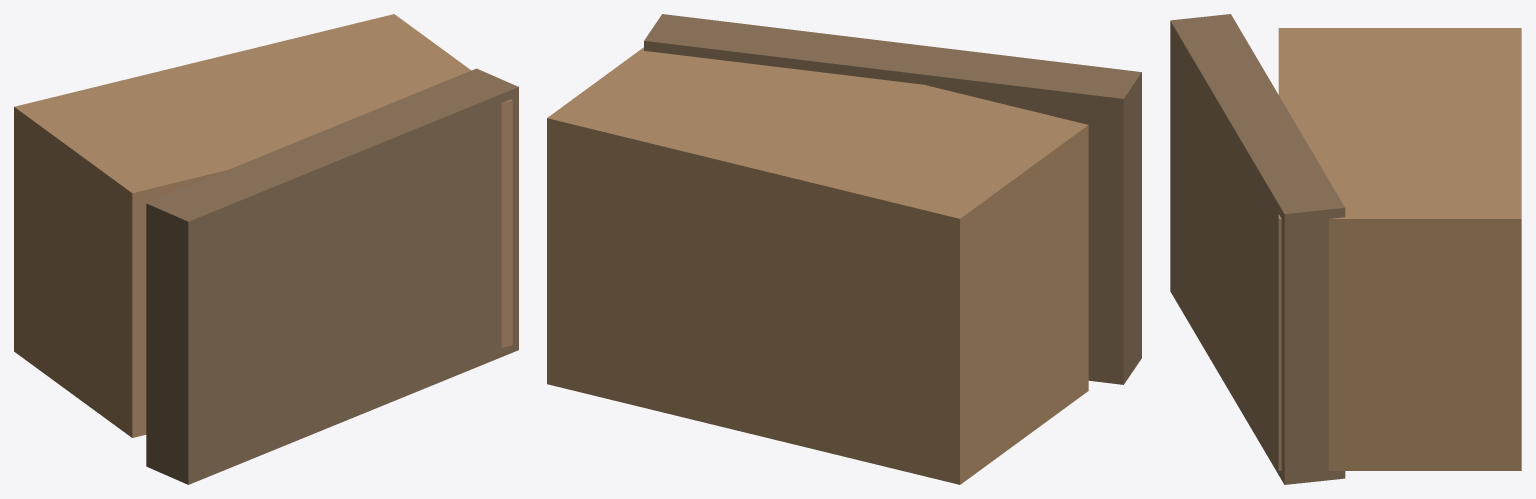
File: shop_storage_chest.glb
3 views of the same model, side by side, from view 1: azimuth 30°, elevation 25°; view 2: azimuth 150°, elevation 25°; view 3: azimuth 270°, elevation 25° (orthographic). The views are drawn at different scales.
Parts seen in each view (by area): view 1: lid, body; view 2: body, lid; view 3: body, lid.
Part boxes in pixels (bbox=[...]): lid: bbox=[146, 68, 518, 484]; body: bbox=[14, 14, 512, 437]; body: bbox=[547, 47, 1088, 484]; lid: bbox=[644, 14, 1141, 384]; body: bbox=[1278, 28, 1521, 470]; lid: bbox=[1170, 14, 1345, 484].
Size of the model in its own units: 1.36 by 0.89 by 1.01.
